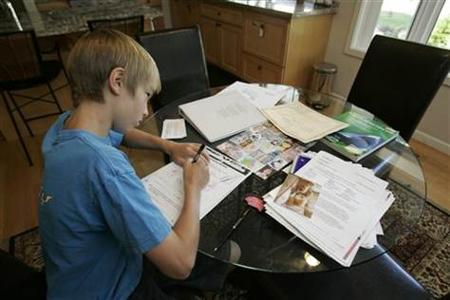person: (37, 28, 207, 299)
